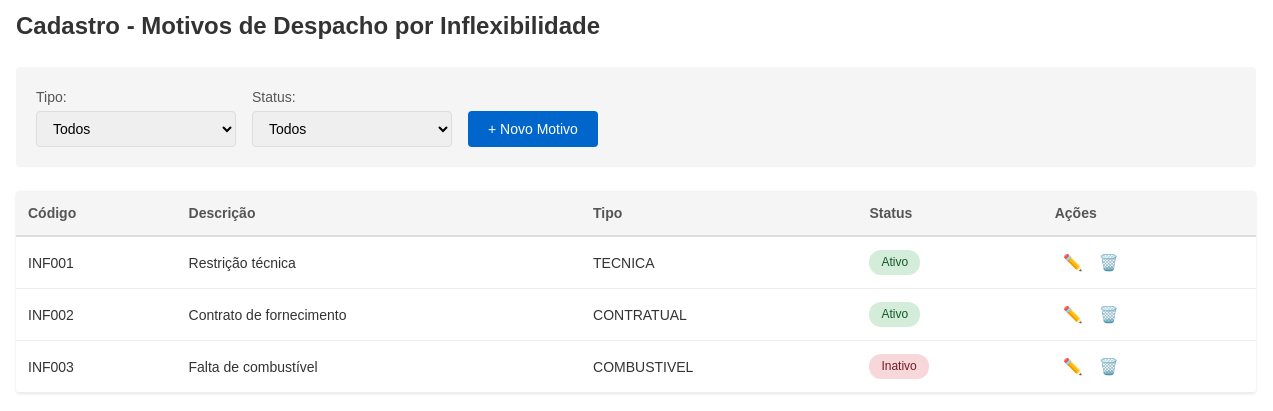
Test: InflexibilityDispatchReason Component › Tabela de Motivos › deve filtrar por tipo de inflexibilidade
Expected: the text "INF001" is shown, [16,236,176,289]
Select "CONTRATUAL" in the dropdown with test id "filter-tipo" at {"x": 136, "y": 129}, box [36,111,236,147]
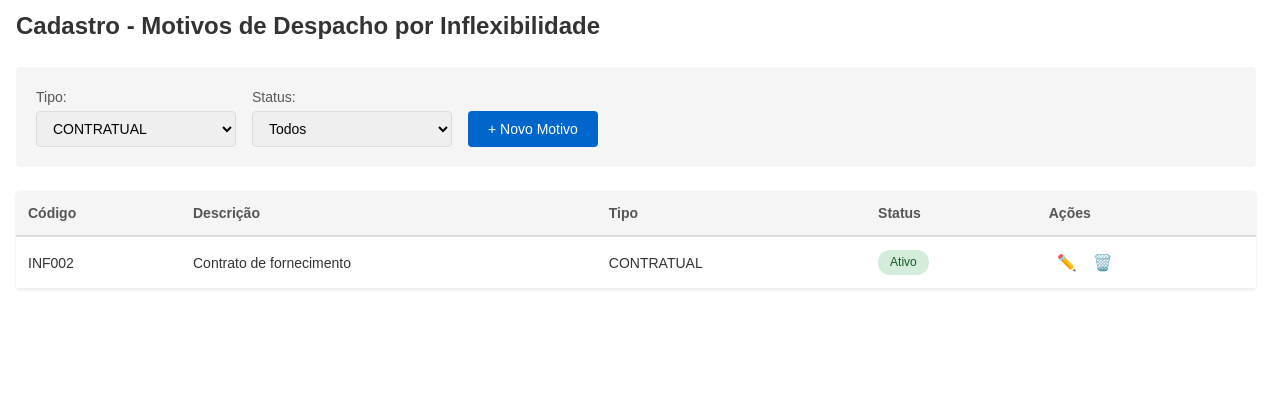
Expected: the text "INF002" is shown, [16,236,181,289]
Now the text "INF001" is gone
